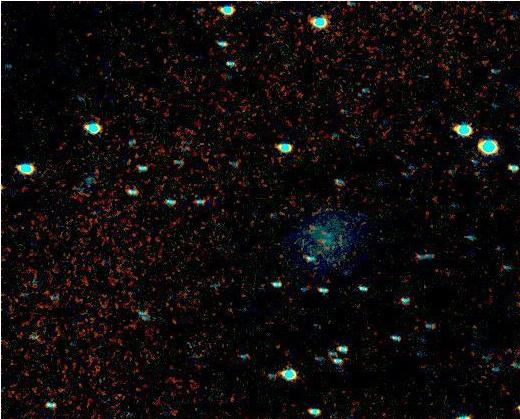star: (238, 199, 268, 229)
